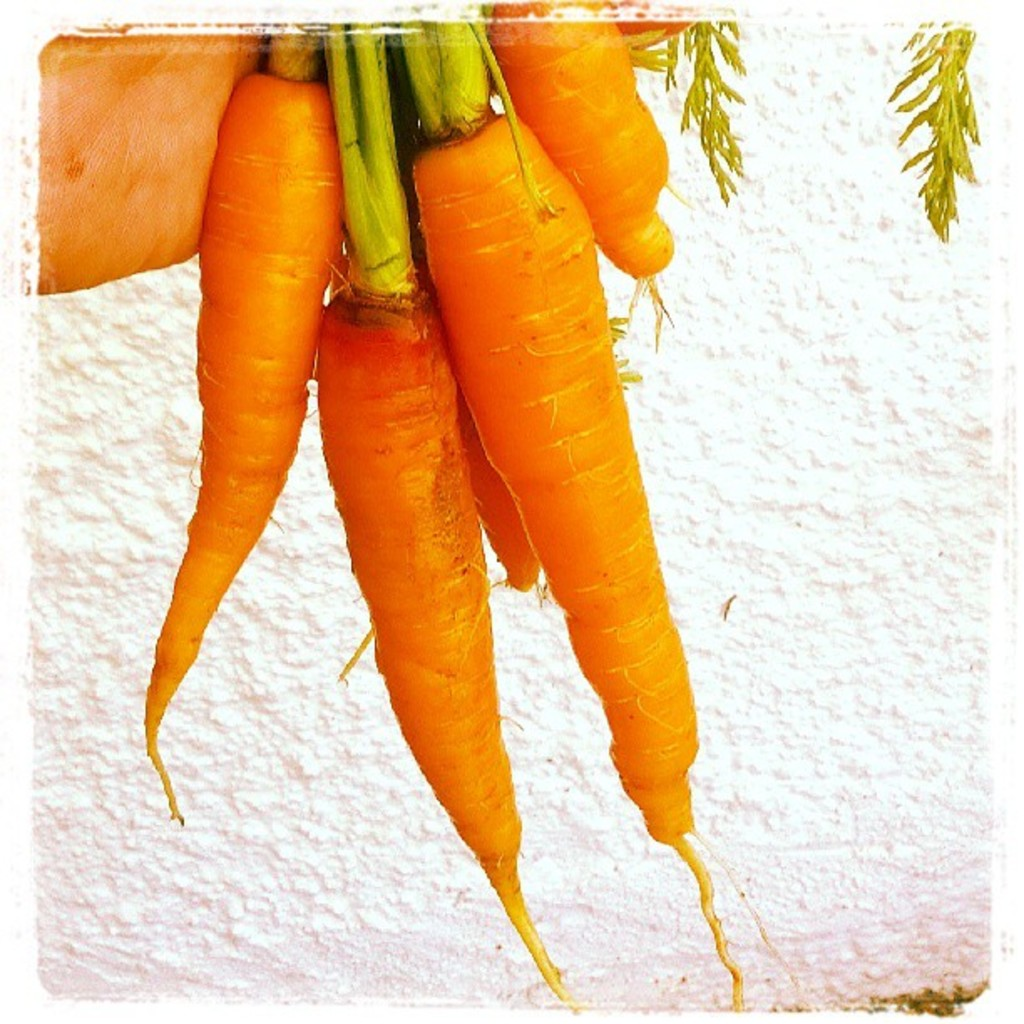Carrot: (36, 0, 747, 1012)
